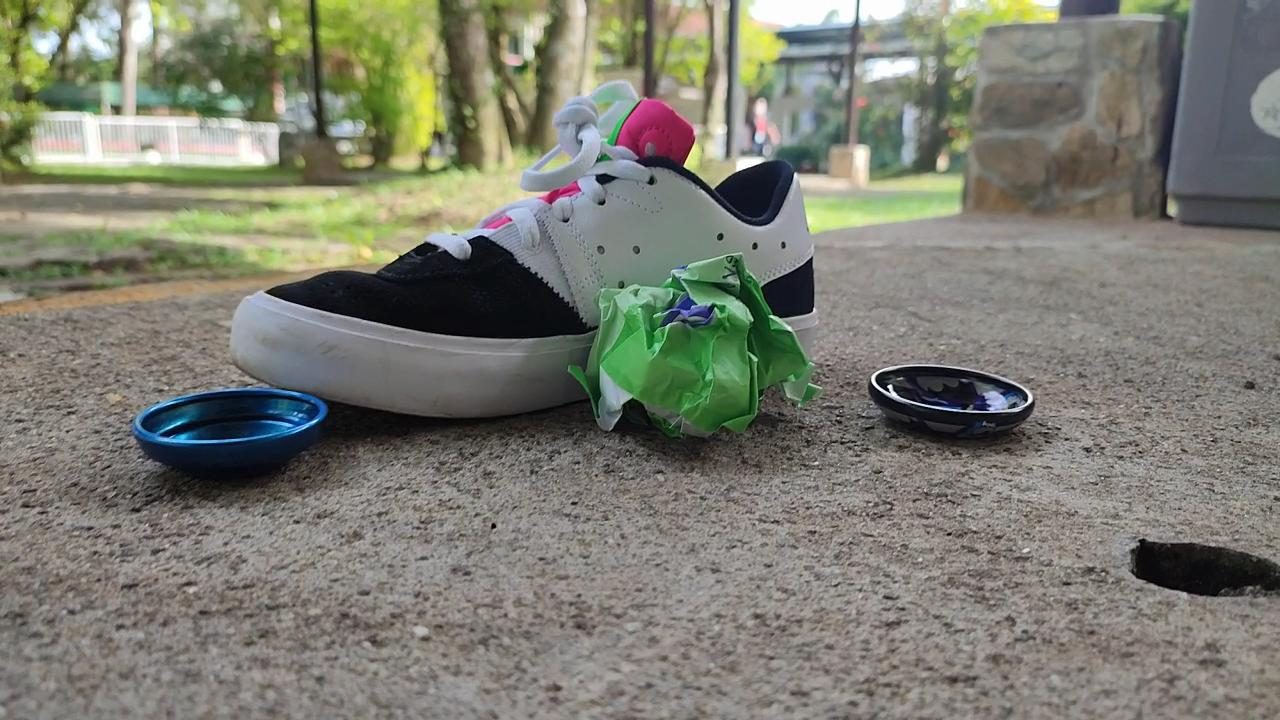Paper: (551, 237, 831, 444)
